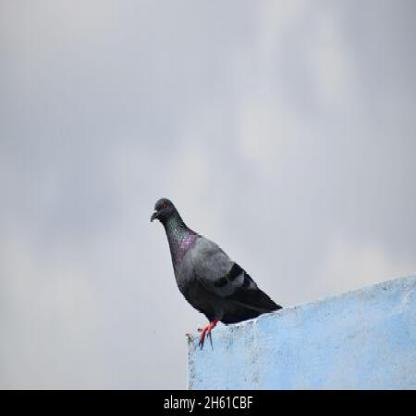Rock Pigeon: (152, 199, 286, 320)
